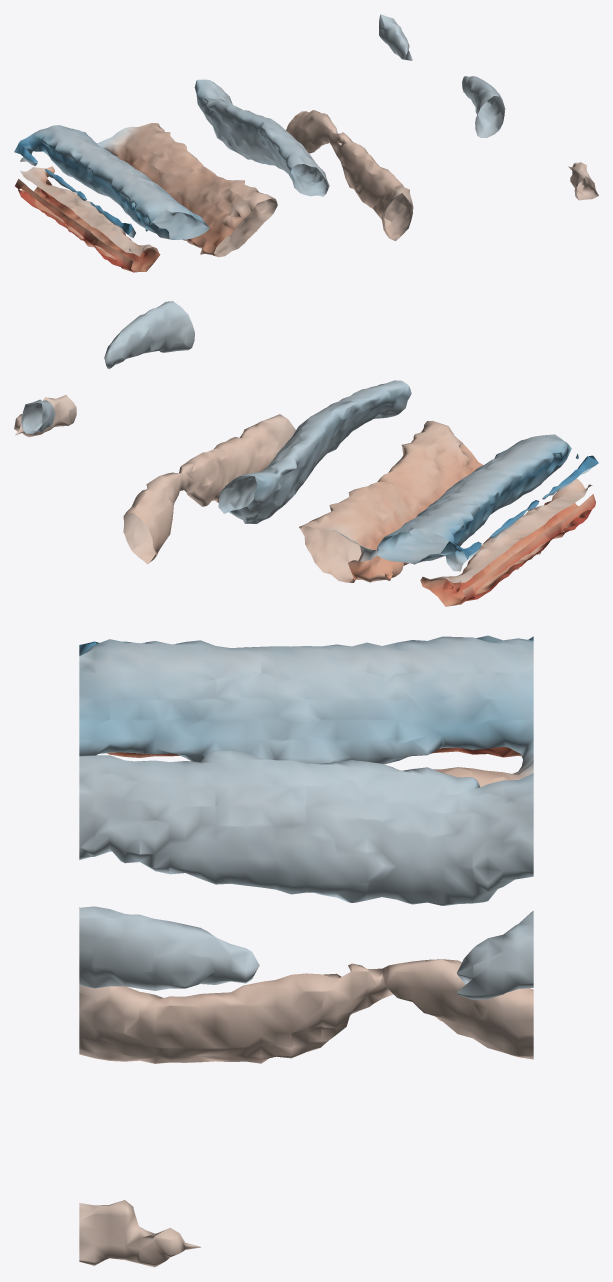
3 views of the same model, one above another, from view 1: azimuth 30°, elevation 25°; view 2: azimuth 150°, elevation 25°; view 3: azimuth 270°, elevation 25° (orthographic). The views are drawn at different scales.
Bounding box in the file's own units: 6.11 × 1.57 × 2.5.
